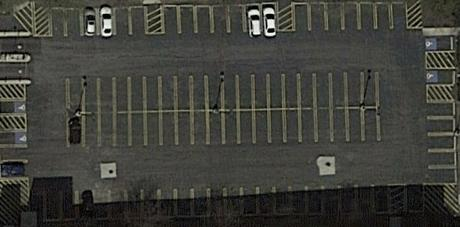parkingspot: (27, 182, 391, 223), (65, 69, 381, 115), (65, 105, 382, 150), (160, 2, 279, 36), (291, 1, 409, 33), (47, 5, 149, 40), (424, 99, 458, 185), (0, 129, 31, 180), (0, 59, 33, 83), (0, 34, 33, 57), (403, 181, 425, 215), (422, 33, 455, 53), (423, 67, 456, 87), (0, 99, 29, 117)
